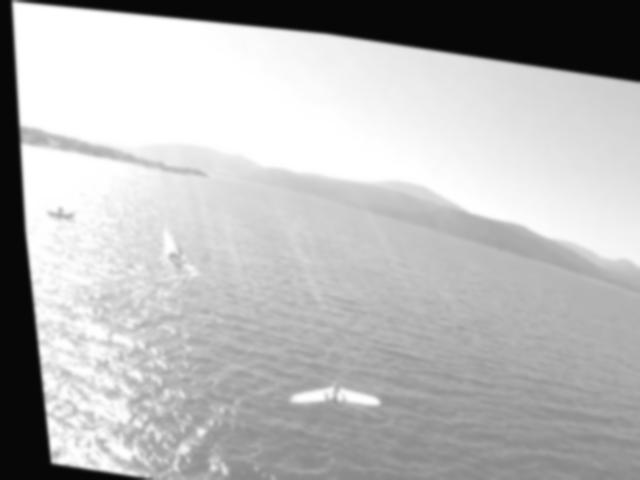hedef: (270, 359, 385, 423)
